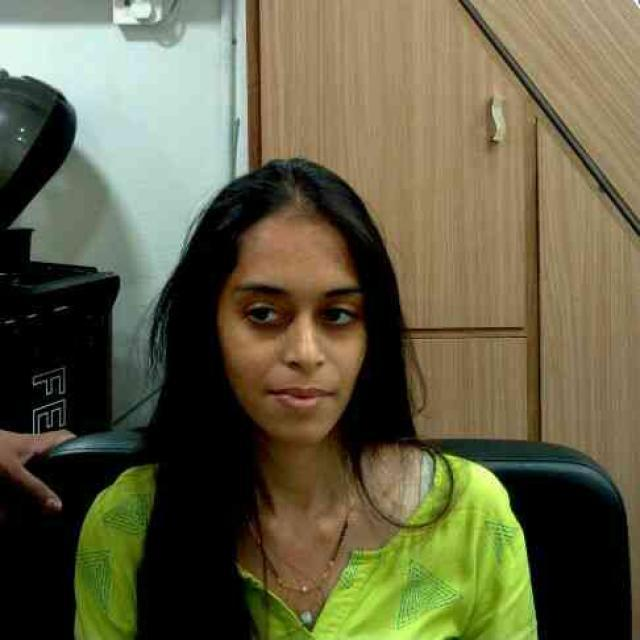puffy_eyes: (252, 306, 294, 338), (318, 323, 360, 339)
